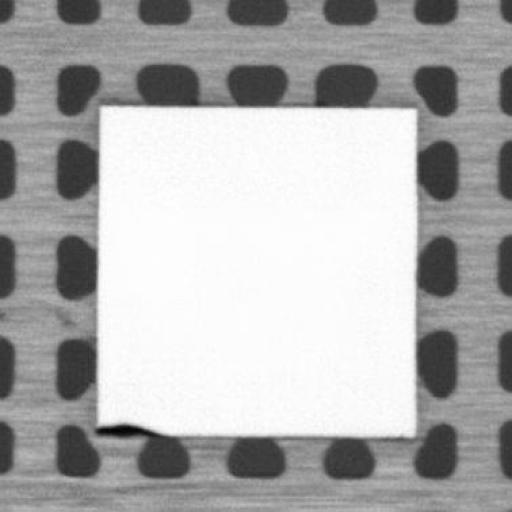DIE_BROKEN: (92, 421, 164, 437)
